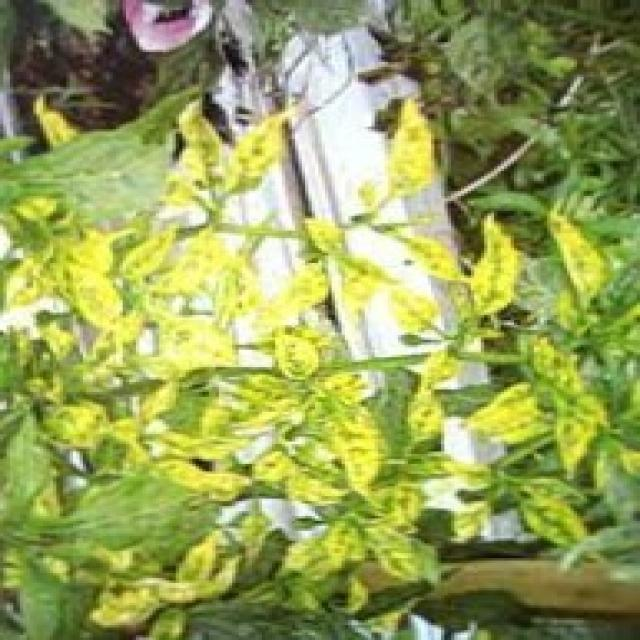virus_kuning: (369, 93, 454, 208), (448, 209, 526, 318)
